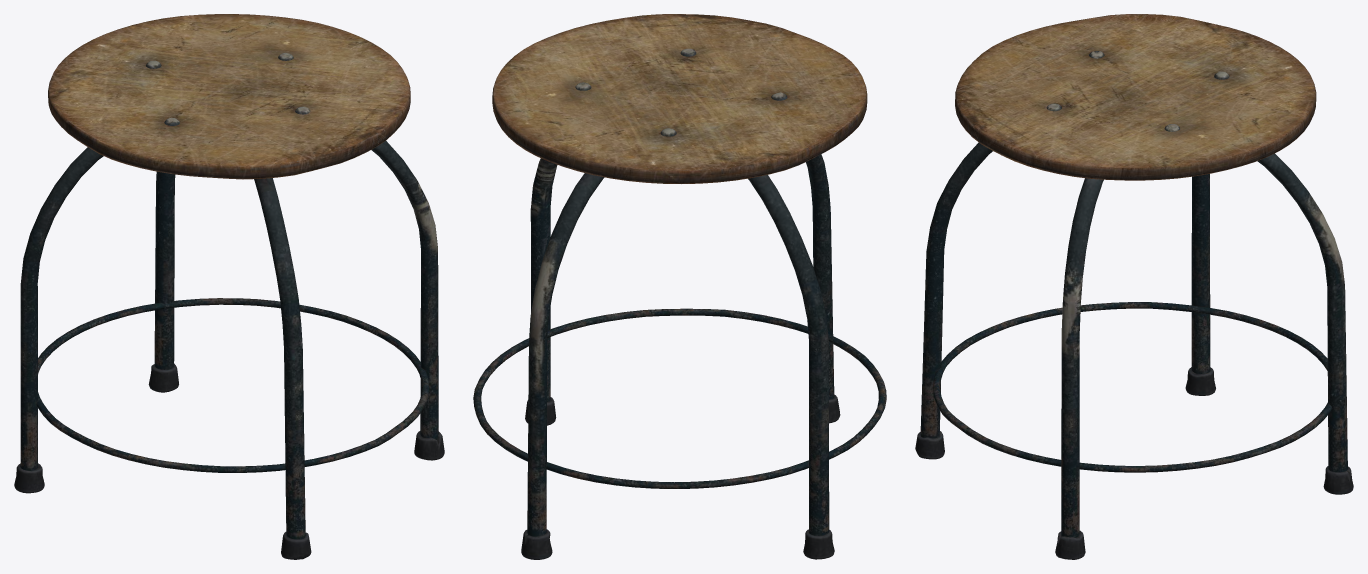
Rendered from tabure.gltf.
3 views of the same model, side by side, from view 1: azimuth 30°, elevation 25°; view 2: azimuth 150°, elevation 25°; view 3: azimuth 270°, elevation 25° (orthographic). The views are drawn at different scales.
Visible parts, largest first — view 1: tabure; view 2: tabure; view 3: tabure.
Boxes of the visible parts, box(x1,y1,x2,y2) form: tabure: box(14, 14, 444, 559); tabure: box(473, 14, 886, 559); tabure: box(915, 14, 1353, 559).
Size of what is drawn, in the model's own units: 0.4481 by 0.4582 by 0.4731.
1 material, 1 textured.
